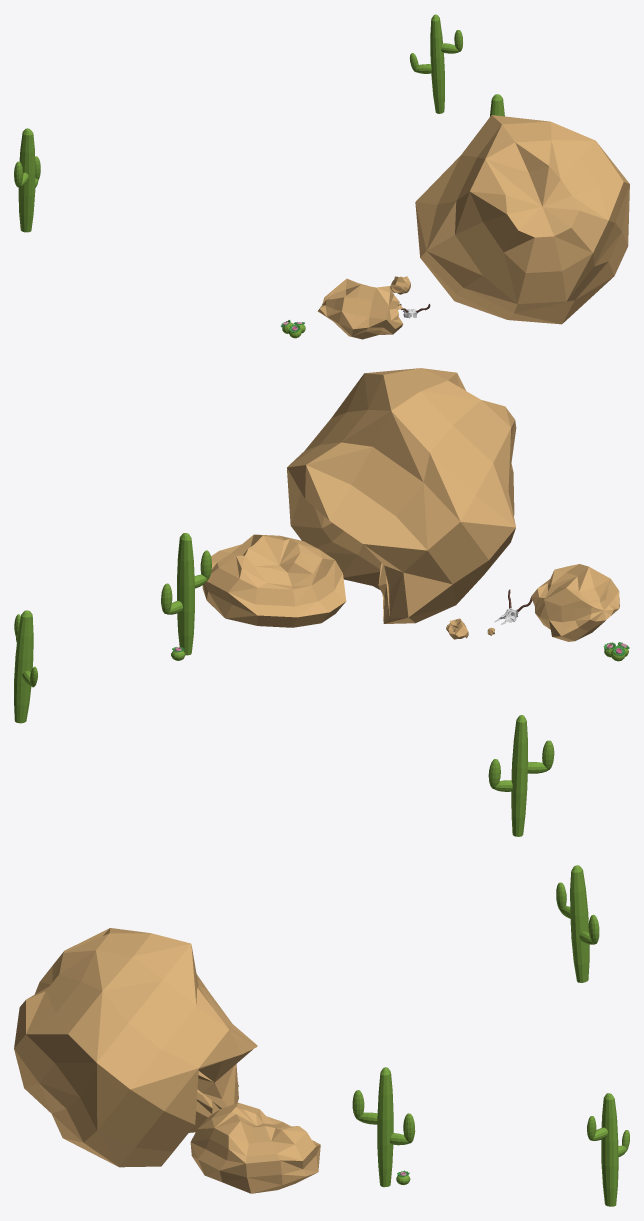
The model's file is modelDraco.gltf.
3 views of the same model, one above another, from view 1: azimuth 30°, elevation 25°; view 2: azimuth 150°, elevation 25°; view 3: azimuth 270°, elevation 25° (orthographic). The views are drawn at different scales.
Parts seen in each view (by area): view 1: node_MeshObject592758528-PolyPaper20, node_MeshObject989614464-PolyPaper9; view 2: node_MeshObject592758528-PolyPaper20, node_MeshObject989614464-PolyPaper9; view 3: node_MeshObject592758528-PolyPaper20, node_MeshObject989614464-PolyPaper9.
Boxes of the visible parts, x1,y1,x2,y2 form: node_MeshObject592758528-PolyPaper20: [281, 115, 629, 339]; node_MeshObject989614464-PolyPaper9: [14, 14, 504, 333]; node_MeshObject592758528-PolyPaper20: [202, 368, 628, 661]; node_MeshObject989614464-PolyPaper9: [14, 533, 629, 836]; node_MeshObject592758528-PolyPaper20: [14, 928, 320, 1193]; node_MeshObject989614464-PolyPaper9: [237, 865, 629, 1206].
Bounding box in the file's own units: 9.29 × 3.5 × 9.7.
